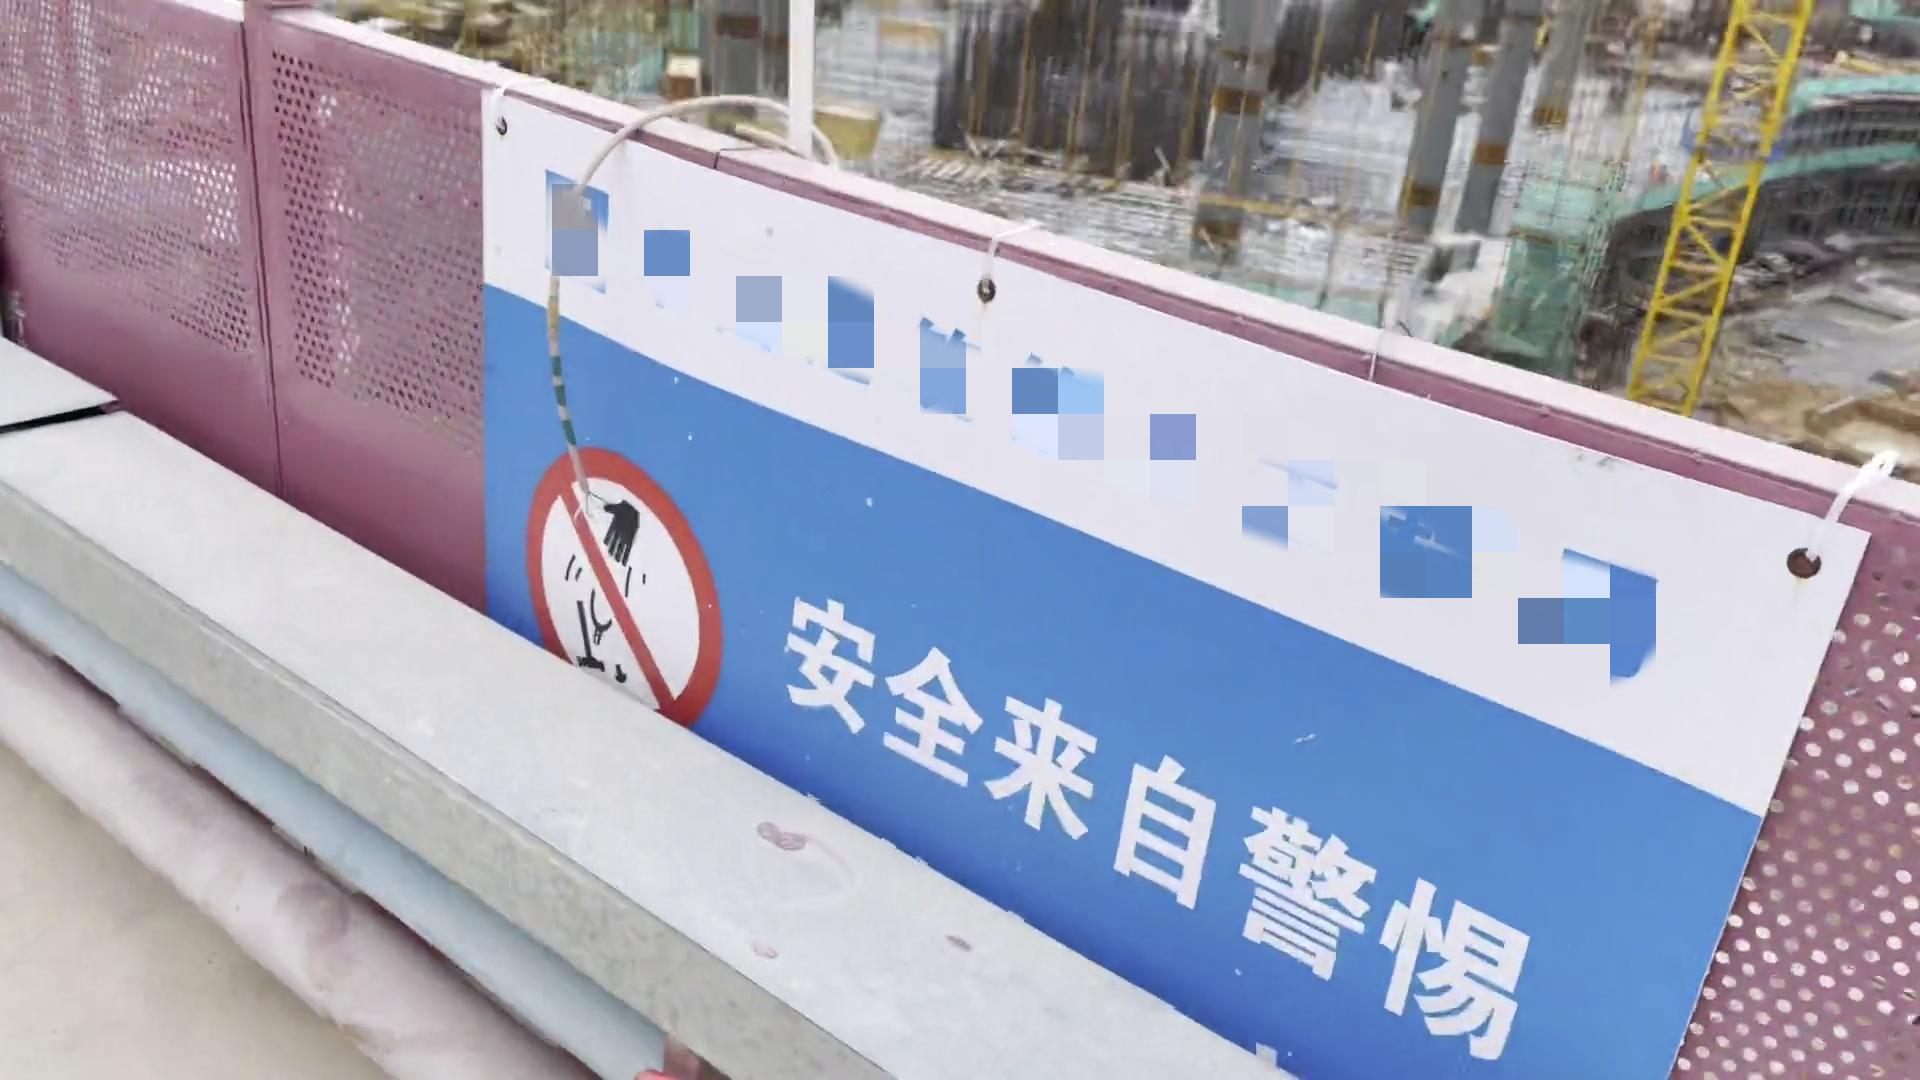board: (814, 95, 906, 171)
fence: (1, 4, 1247, 1080), (1230, 280, 1920, 1080)
slogan: (410, 69, 1894, 1080)
